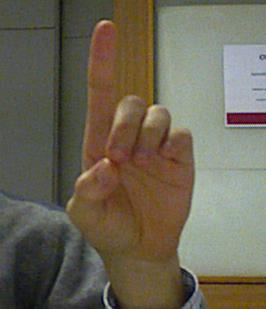up: (65, 14, 196, 252)
